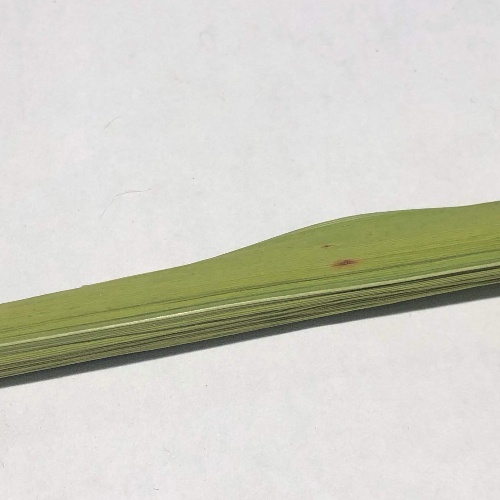Bercak Coklat: (320, 252, 382, 276)
